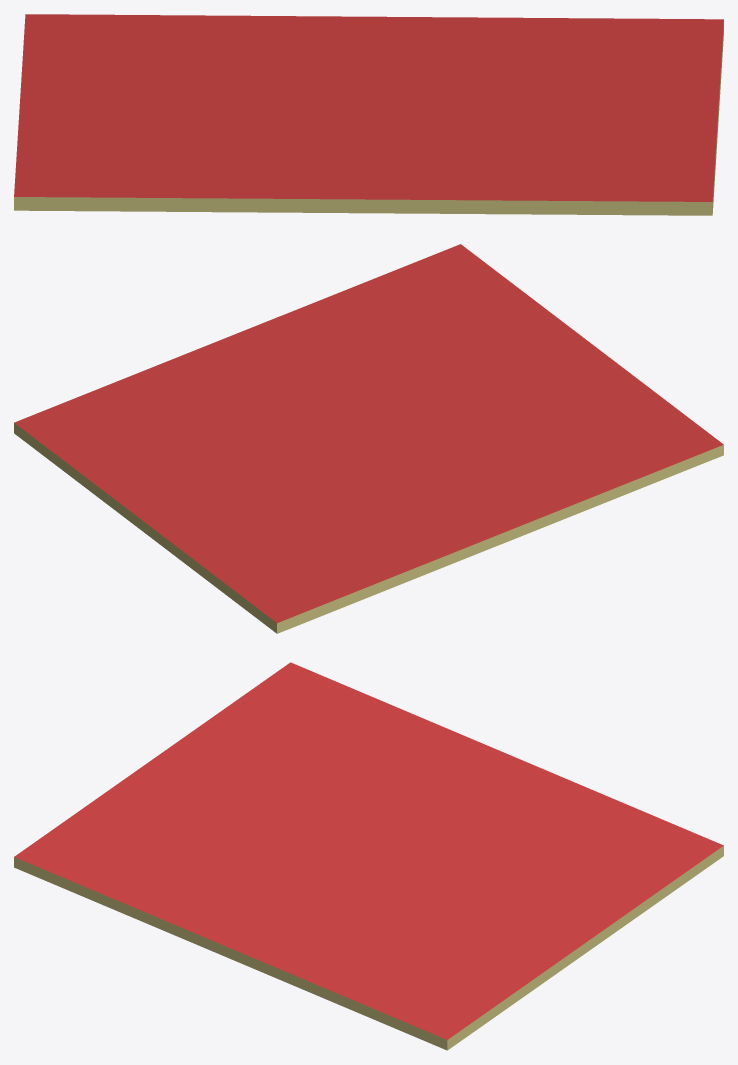
3 renders of one model, top to bottom at view 1: azimuth 30°, elevation 25°; view 2: azimuth 150°, elevation 25°; view 3: azimuth 270°, elevation 25°, orthographic. The views are drawn at different scales.
Bounding box in the file's own units: 6.16 × 6.07 × 0.79.
